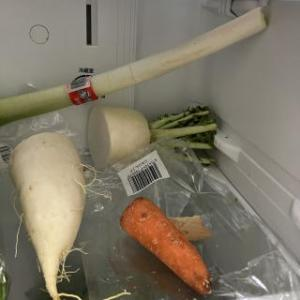carrot: (118, 195, 212, 295)
